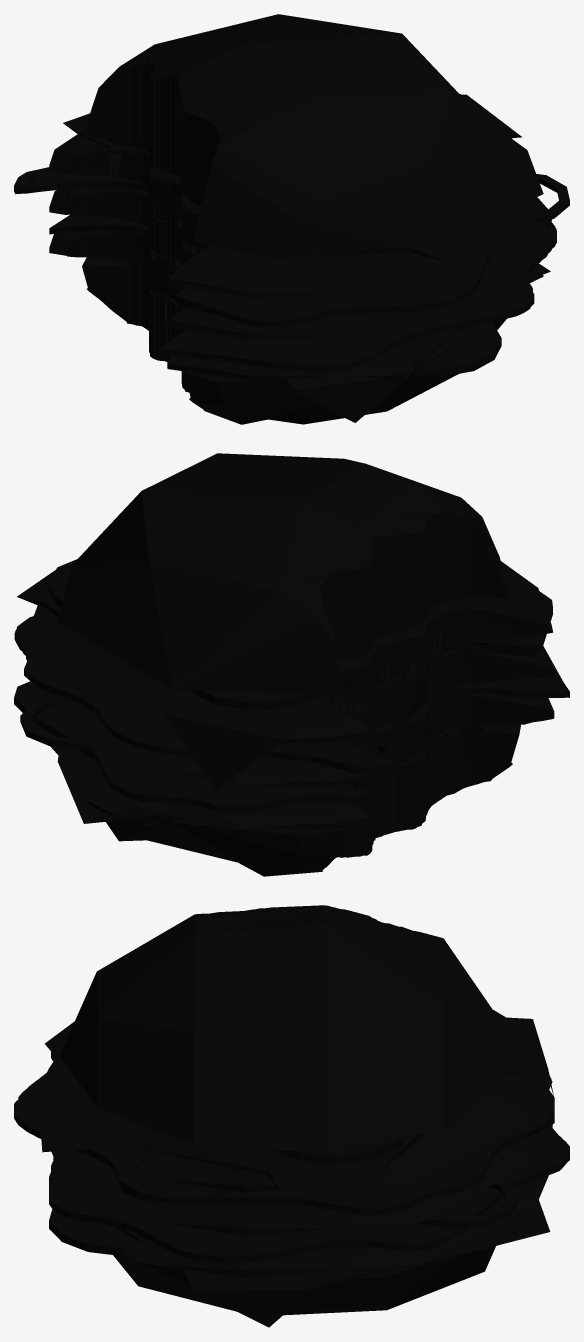
File: EatBurgr.glb
The picture shows the model from 3 angles, top to bottom: view 1: azimuth 30°, elevation 25°; view 2: azimuth 150°, elevation 25°; view 3: azimuth 270°, elevation 25°; orthographic projection. The views are drawn at different scales.
Visible parts, largest first — view 1: EatBurgr; view 2: EatBurgr; view 3: EatBurgr.
Part boxes in pixels (left/top/right/bottom): EatBurgr: left=14, top=14, right=569, bottom=424; EatBurgr: left=14, top=453, right=569, bottom=876; EatBurgr: left=14, top=905, right=569, bottom=1327.
Bounding box in the file's own units: 135 × 95.47 × 149.
1 material, 1 textured.
